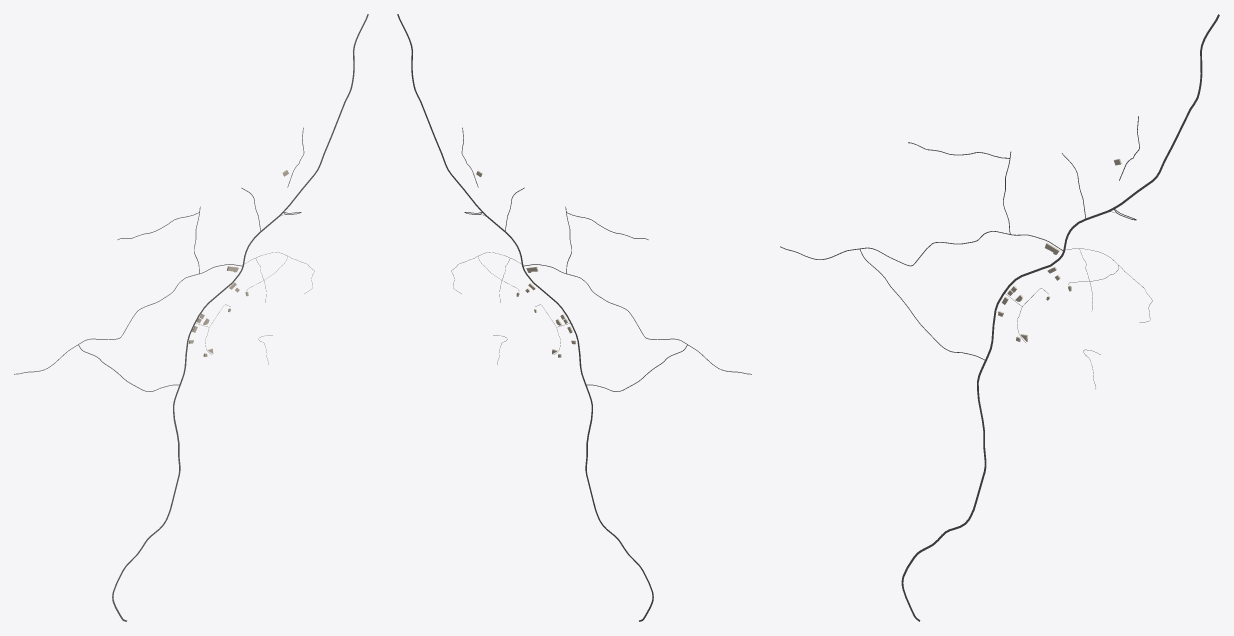
File: historic-palestine-11_25_3527_3198.glb
3 views of the same model, side by side, from view 1: azimuth 30°, elevation 25°; view 2: azimuth 150°, elevation 25°; view 3: azimuth 330°, elevation 25° (orthographic). The views are drawn at different scales.
Parts seen in each view (by area): view 1: Road Al-Mazra'a Al-Sharqiya; view 2: Road Al-Mazra'a Al-Sharqiya; view 3: Road Al-Mazra'a Al-Sharqiya.
Part boxes in pixels (bbox=[...]): Road Al-Mazra'a Al-Sharqiya: bbox=[112, 14, 368, 621]; Road Al-Mazra'a Al-Sharqiya: bbox=[397, 14, 653, 621]; Road Al-Mazra'a Al-Sharqiya: bbox=[901, 14, 1219, 621].
Size of the model in its own units: 1899 by 2809 by 9.09.
